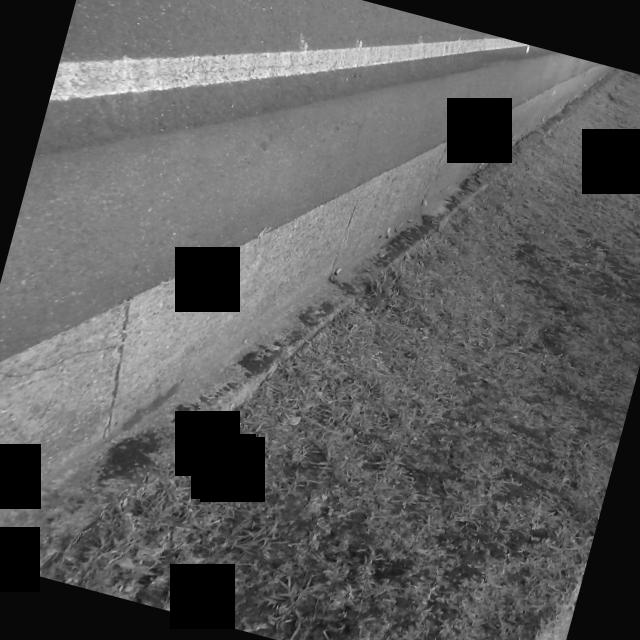DITCH: (0, 0, 615, 640), (0, 0, 613, 640)
